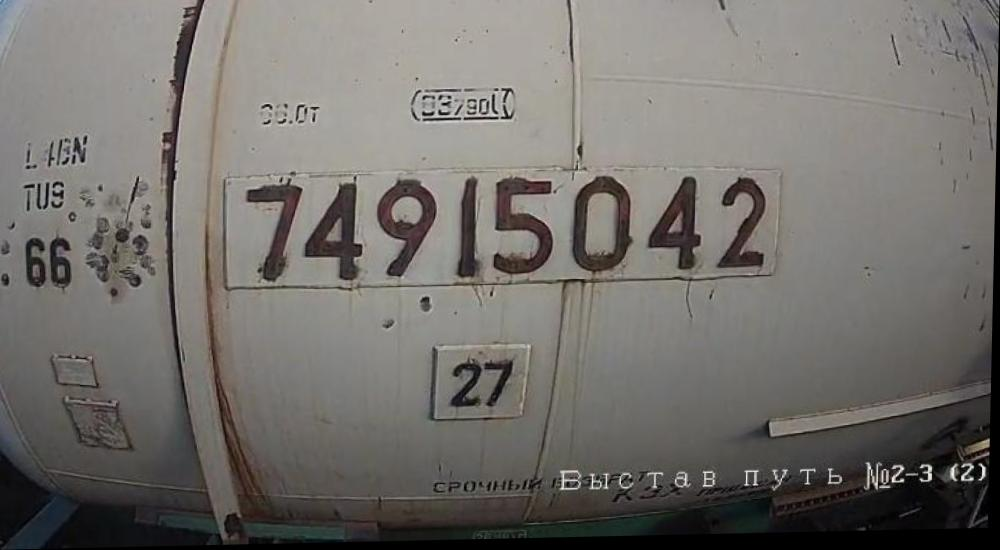Wagon-number: (236, 167, 776, 286)
